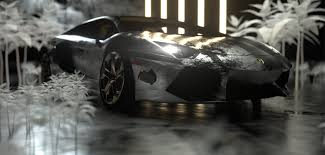Lamborghini: (85, 15, 288, 105)
